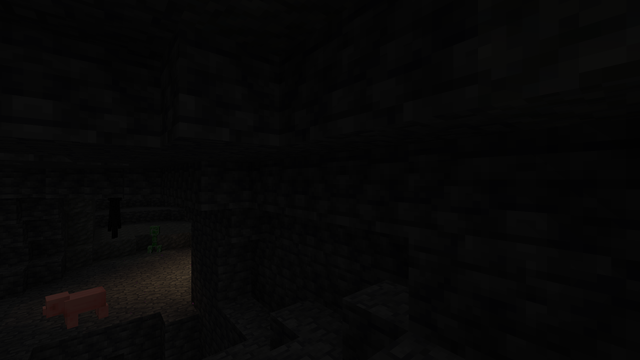cochons: (63, 284, 101, 330)
creepers: (148, 224, 160, 253)
endermens: (108, 202, 120, 239)
